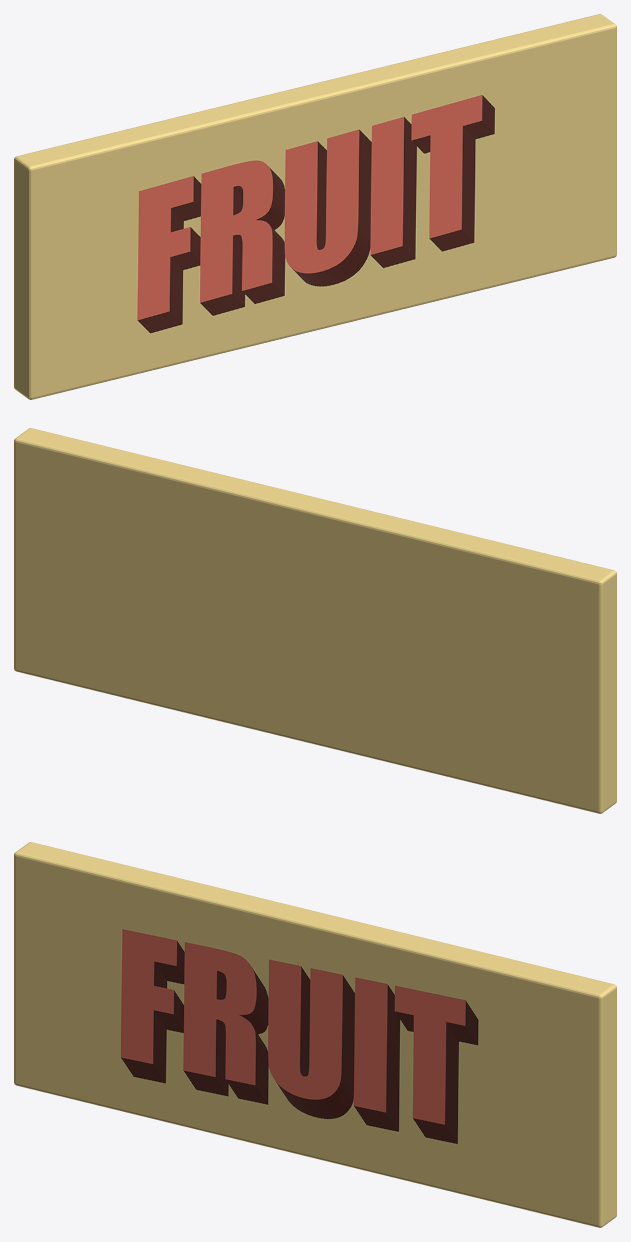
The model's file is fruit.fbx.
The picture shows the model from 3 angles, top to bottom: view 1: azimuth 30°, elevation 25°; view 2: azimuth 150°, elevation 25°; view 3: azimuth 330°, elevation 25°; orthographic projection.
Parts seen in each view (by area): view 1: fruit; view 2: fruit; view 3: fruit.
Boxes of the visible parts, <box> form: fruit: <box>14,14,616,399</box>; fruit: <box>14,428,616,813</box>; fruit: <box>14,842,616,1227</box>.
Size of the model in its own units: 102 by 38.8 by 5.
Materials: 1 (1 with a texture image).
